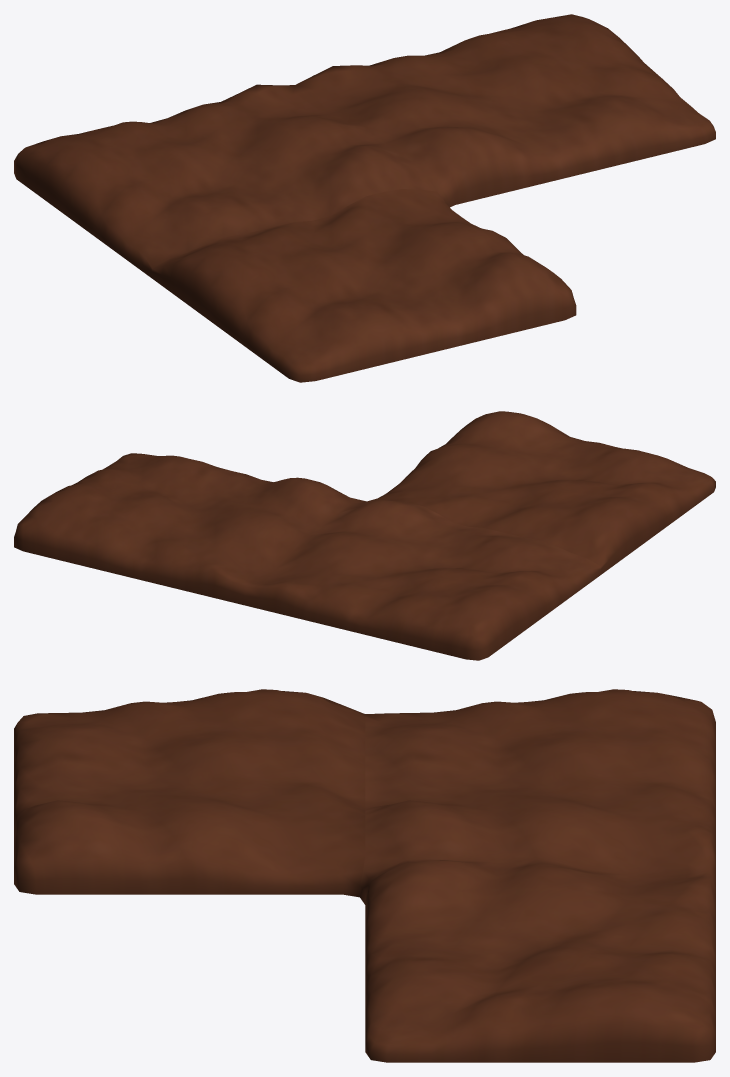
File: Soil Three.fbx
3 renders of one model, top to bottom at view 1: azimuth 30°, elevation 25°; view 2: azimuth 150°, elevation 25°; view 3: azimuth 270°, elevation 25°, orthographic. The views are drawn at different scales.
Visible parts, largest first — view 1: polySurface1; view 2: polySurface1; view 3: polySurface1.
Boxes of the visible parts, x1=… form: polySurface1: x1=14, y1=14, x2=715, y2=382; polySurface1: x1=14, y1=411, x2=715, y2=660; polySurface1: x1=14, y1=689, x2=715, y2=1062.
Size of the model in its own units: 17.93 by 1.43 by 15.84.
